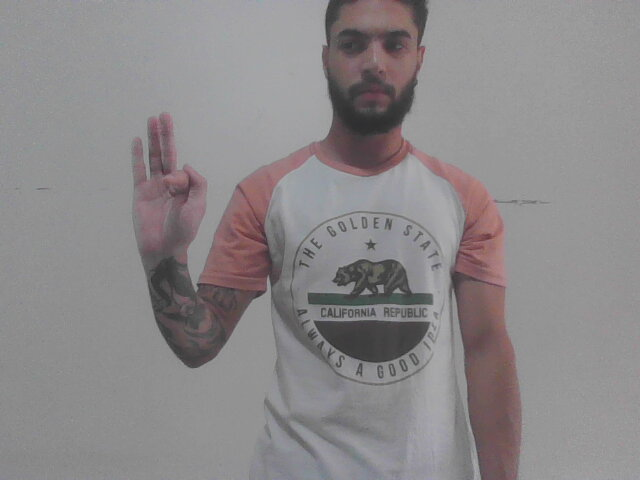f: (116, 104, 214, 259)
